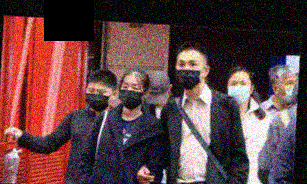with_mask: (175, 57, 203, 91), (118, 81, 143, 111), (85, 85, 111, 112), (225, 78, 250, 105), (281, 76, 297, 103)
